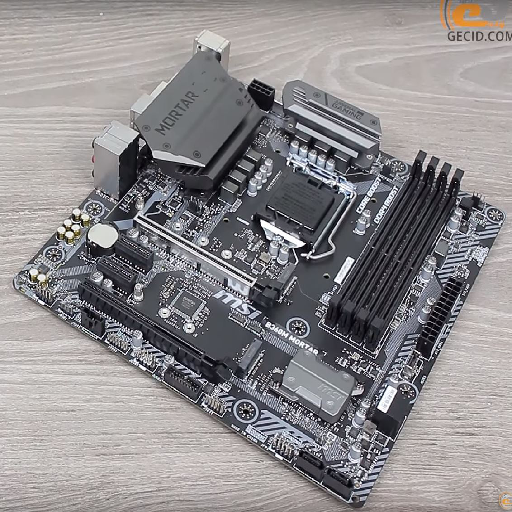CPU: (250, 162, 351, 251)
GPU: (74, 278, 236, 385), (132, 211, 284, 312)
MOTHERBOARD: (11, 37, 506, 505)
RAM: (325, 151, 468, 352)
SSD: (231, 335, 263, 379), (268, 260, 298, 295)
